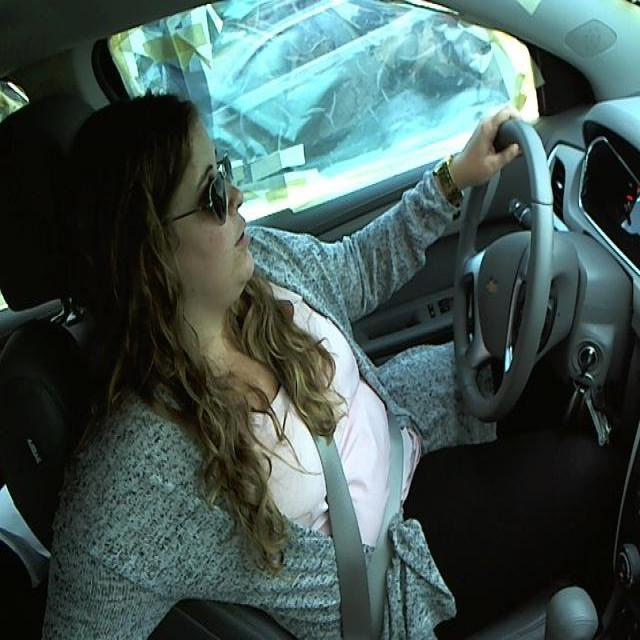seatbelt: (275, 349, 424, 623)
